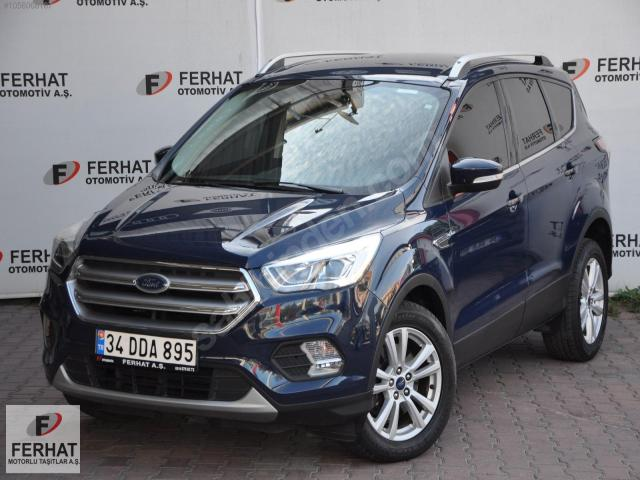plaka: (96, 329, 196, 369)
